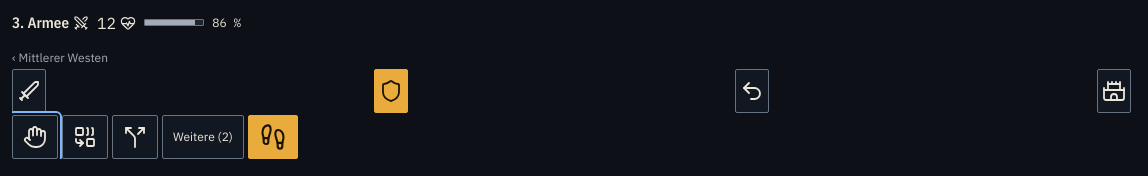
Test case: D19b: ArmyDockContent — Haltung, Befehle, Weitere, Zielwahl im Dock › "Weitere" klappt Beschiessen + Feuer halten auf, Escape schliesst und gibt den Fokus zurueck
Click the button "Weitere (2)".
click(203, 137)  # box [162,115,244,159]
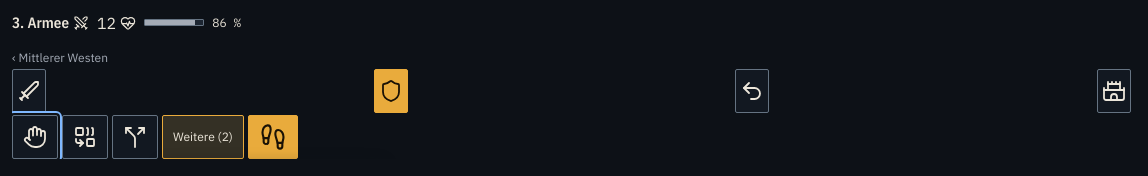
Expected: the button "Weitere (2)" is expanded, [162,115,244,159]
Press Escape
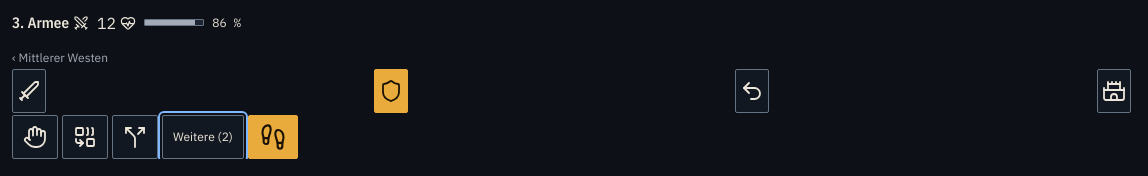
Expected: the button "Weitere (2)" is collapsed, [162,115,244,159]
